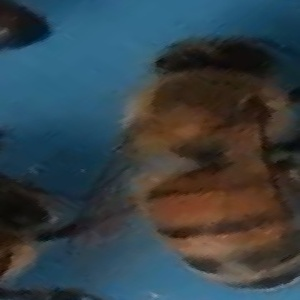bee: (108, 28, 300, 291)
